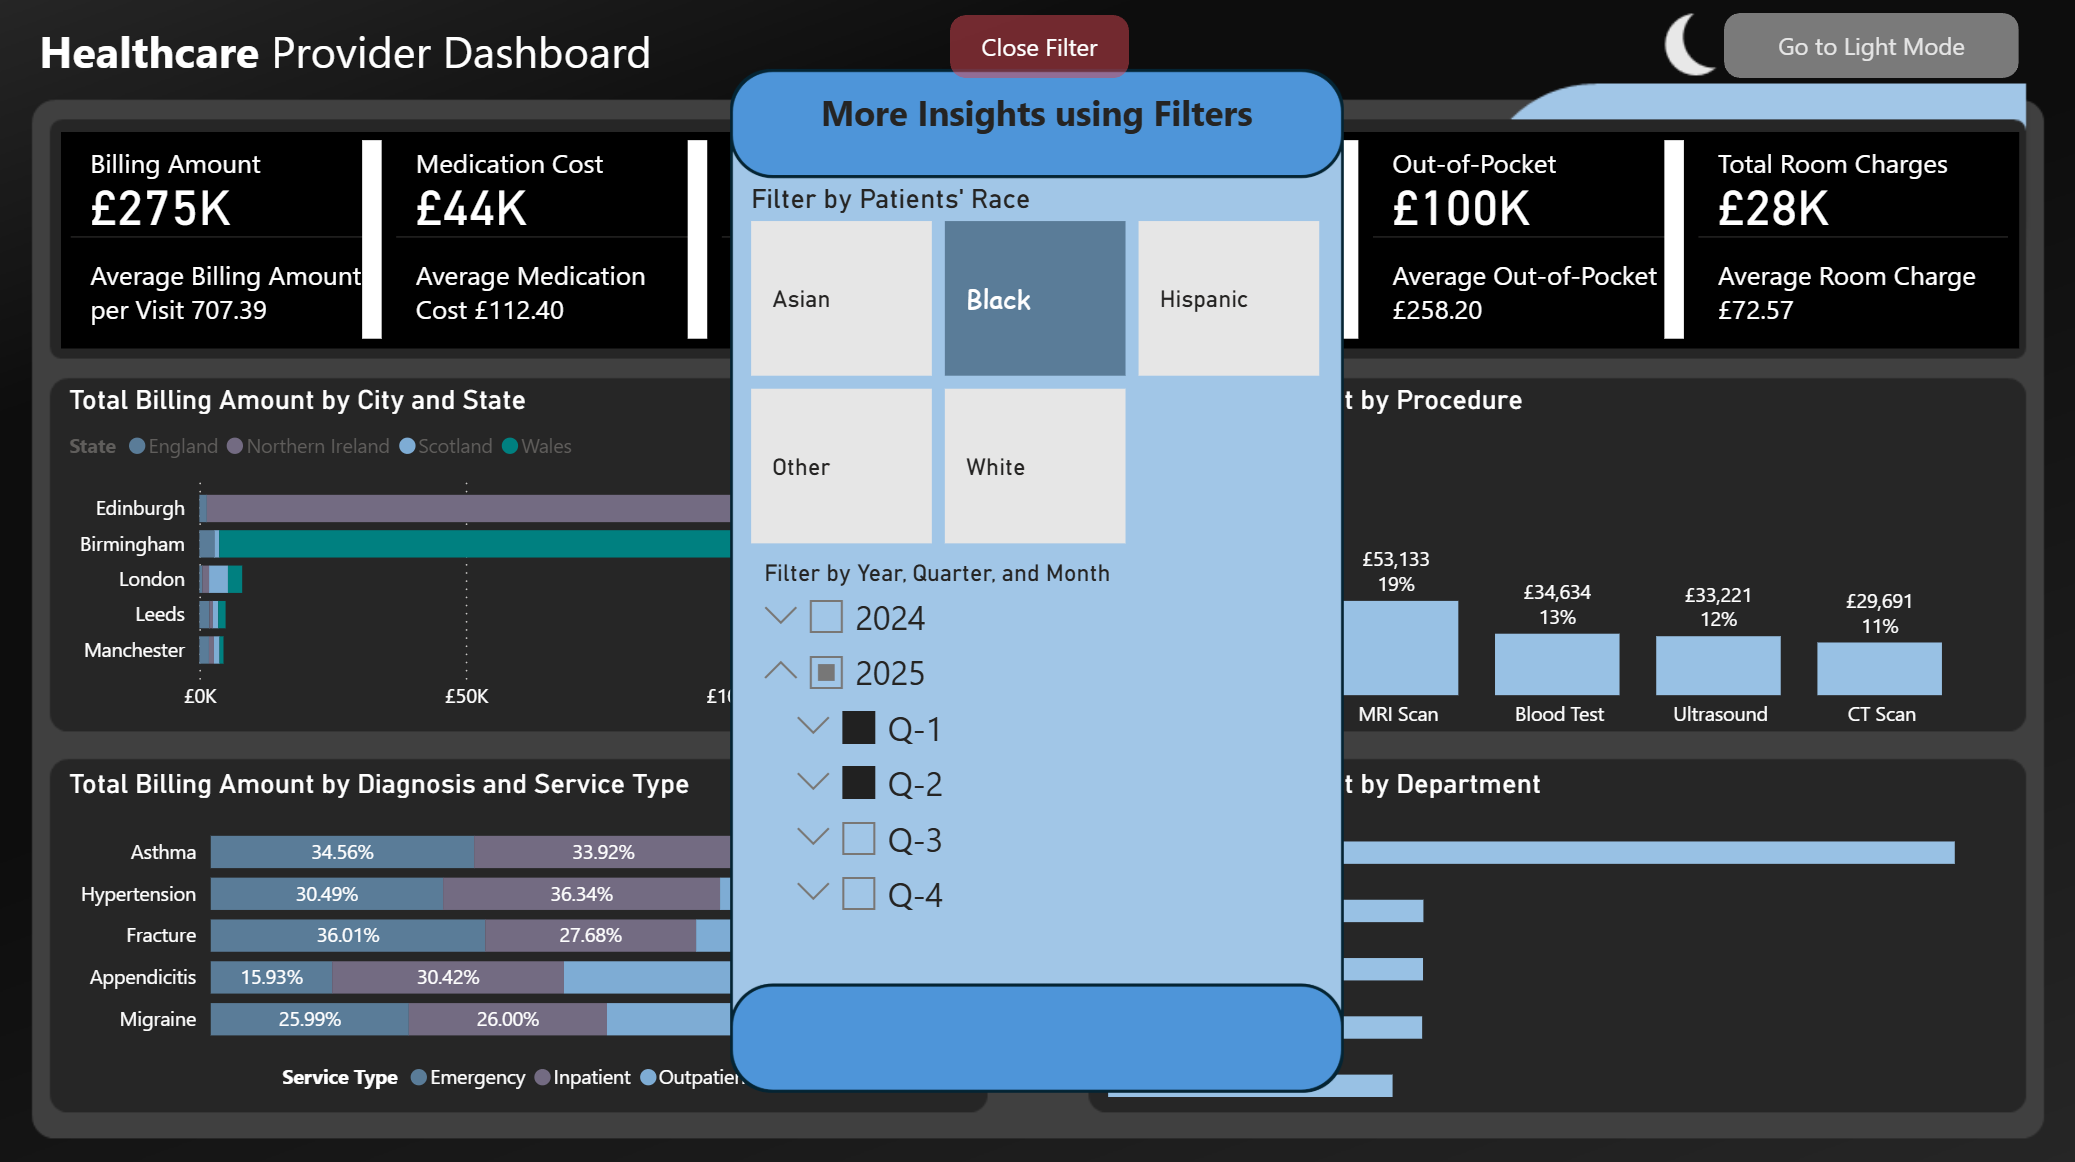

The dashboard page shown, as its layout file describes it:
{"tool":"powerbi","page":{"name":"Dark Mode","canvas":[1280,720],"ordinal":2},"visuals":[{"type":"cardVisual","fields":{"Data":["DAX Calculation.Total Billing Amount","DAX Calculation.Total Medication Cost","DAX Calculation.Total Treatment Cost","DAX Calculation.Total Insurance Covered","DAX Calculation.Out-of-Pocket","DAX Calculation.Total Room Charges"]},"box":[39.3,83.5,1202.9,132.7],"z":0},{"type":"actionButton","title":"Open Filter","box":[585.4,11.4,110,38.8],"z":1000,"group":"g1"},{"type":"barChart","fields":{"Category":["cities.City"],"Y":["DAX Calculation.Total Billing Amount"],"Series":["cities.State"]},"box":[39.3,237.7,565.2,210.7],"z":1000},{"type":"columnChart","fields":{"Category":["procedures.Procedure"],"Y":["DAX Calculation.Total Billing Amount"]},"box":[677.6,237.7,564.6,221.8],"z":2000},{"type":"hundredPercentStackedBarChart","fields":{"Y":["DAX Calculation.Total Billing Amount"],"Category":["diagnoses.Diagnosis"],"Series":["visits.Service Type"]},"box":[39.3,473.7,565.2,208.9],"z":3000},{"type":"clusteredBarChart","title":"Total Billing Amount by Department","fields":{"Category":["departments.Department"],"Y":["DAX Calculation.Blank Measure","DAX Calculation.Total Billing Amount"]},"box":[677.6,473.7,564.6,208.9],"z":4000},{"type":"textbox","box":[20.7,10.4,599.8,53.1],"z":5000},{"type":"actionButton","title":"Go to Light Mode","box":[1061,10.4,181.2,39.9],"z":6000},{"type":"group","id":"g1","title":"Slicer Buttons","box":[585.4,11.4,109.8,39.2],"z":8000}]}

Visuals, with their boxes in screenshot pixels (x1, y1, x2, y2), scaled from the page's 1280x720 canvas onto the 2075x1162 screenshot:
cardVisual - DAX Calculation.Total Billing Amount x DAX Calculation.Total Medication Cost: 64, 135, 2014, 349
"Open Filter" actionButton: 949, 18, 1127, 81
barChart - cities.City x DAX Calculation.Total Billing Amount: 64, 384, 980, 724
columnChart - procedures.Procedure x DAX Calculation.Total Billing Amount: 1098, 384, 2014, 742
hundredPercentStackedBarChart - DAX Calculation.Total Billing Amount x diagnoses.Diagnosis: 64, 764, 980, 1102
"Total Billing Amount by Department" clusteredBarChart: 1098, 764, 2014, 1102
textbox: 34, 17, 1006, 102
"Go to Light Mode" actionButton: 1720, 17, 2014, 81
"Slicer Buttons" group: 949, 18, 1127, 82
